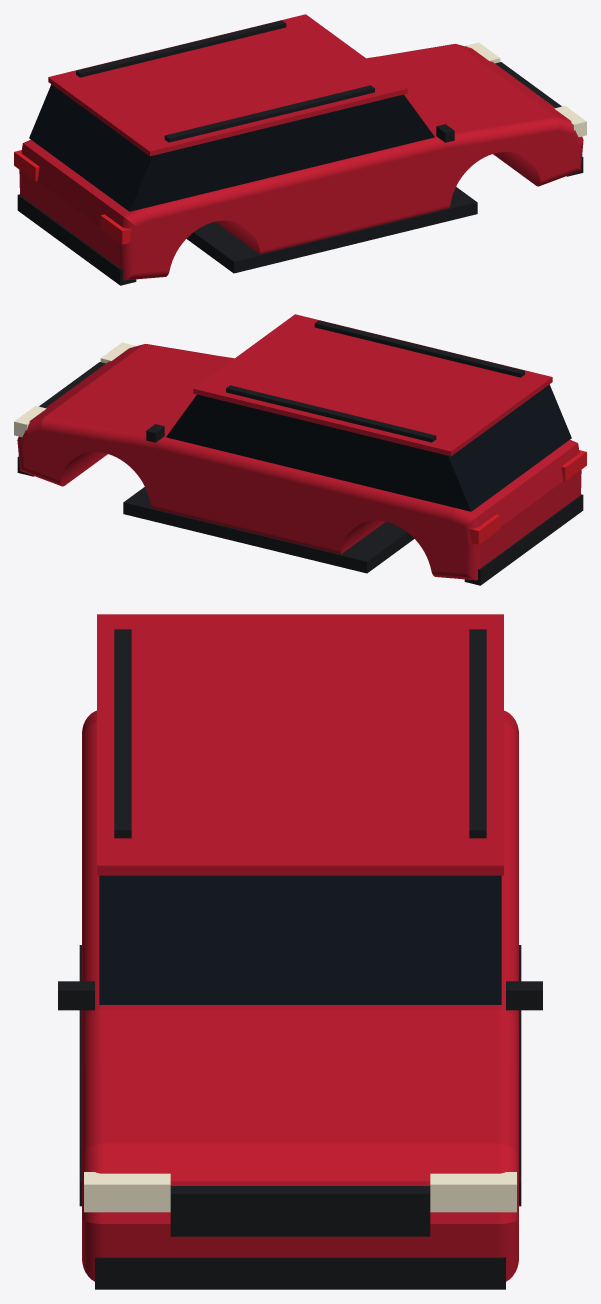
File: suv.glb
3 views of the same model, one above another, from view 1: azimuth 30°, elevation 25°; view 2: azimuth 150°, elevation 25°; view 3: azimuth 270°, elevation 25° (orthographic). The views are drawn at different scales.
Parts seen in each view (by area): view 1: Body, Roof, Glass, Trim3, Trim2, Trim6, Trim7, Tail1, Tail0, Head1, Trim1; view 2: Body, Roof, Glass, Trim3, Trim2, Trim7, Trim6, Tail0, Tail1, Head0, Trim1; view 3: Body, Roof, Glass, Trim0, Trim1, Trim6, Trim7, Head0, Head1, Trim3, Trim4, Trim5.
Part boxes in pixels (box(x1,y1,x2,y2)): Body: box(19, 44, 583, 280); Roof: box(48, 14, 407, 156); Glass: box(29, 84, 434, 211); Trim3: box(186, 187, 477, 273); Trim2: box(17, 194, 136, 285); Trim6: box(76, 20, 286, 77); Trim7: box(164, 85, 374, 142); Tail1: box(100, 214, 131, 244); Tail0: box(14, 150, 39, 181); Head1: box(554, 106, 586, 137); Trim1: box(495, 62, 561, 107); Body: box(17, 344, 581, 580); Roof: box(193, 314, 552, 456); Glass: box(166, 384, 571, 511); Trim3: box(123, 487, 414, 573); Trim2: box(464, 494, 583, 585); Trim7: box(314, 320, 524, 377); Trim6: box(226, 385, 436, 442); Tail0: box(469, 514, 500, 544); Tail1: box(561, 450, 586, 481); Head0: box(14, 406, 46, 437); Trim1: box(39, 362, 105, 407); Body: box(82, 710, 518, 1281); Roof: box(97, 614, 503, 875); Glass: box(99, 875, 501, 1004); Trim0: box(95, 1257, 505, 1289); Trim1: box(170, 1186, 430, 1236); Trim6: box(469, 629, 486, 838); Trim7: box(114, 629, 131, 838); Head0: box(430, 1172, 516, 1212); Head1: box(84, 1172, 170, 1212); Trim3: box(79, 945, 521, 1206); Trim4: box(506, 981, 542, 1010); Trim5: box(58, 981, 94, 1010).
Size of the model in its own units: 4.97 by 1.45 by 2.24.
